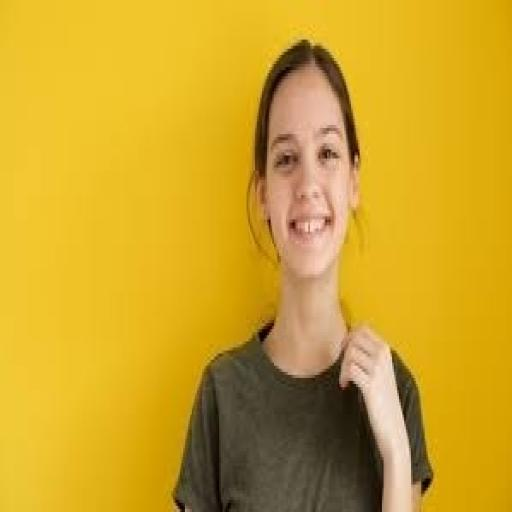laughing: (168, 30, 436, 506)
